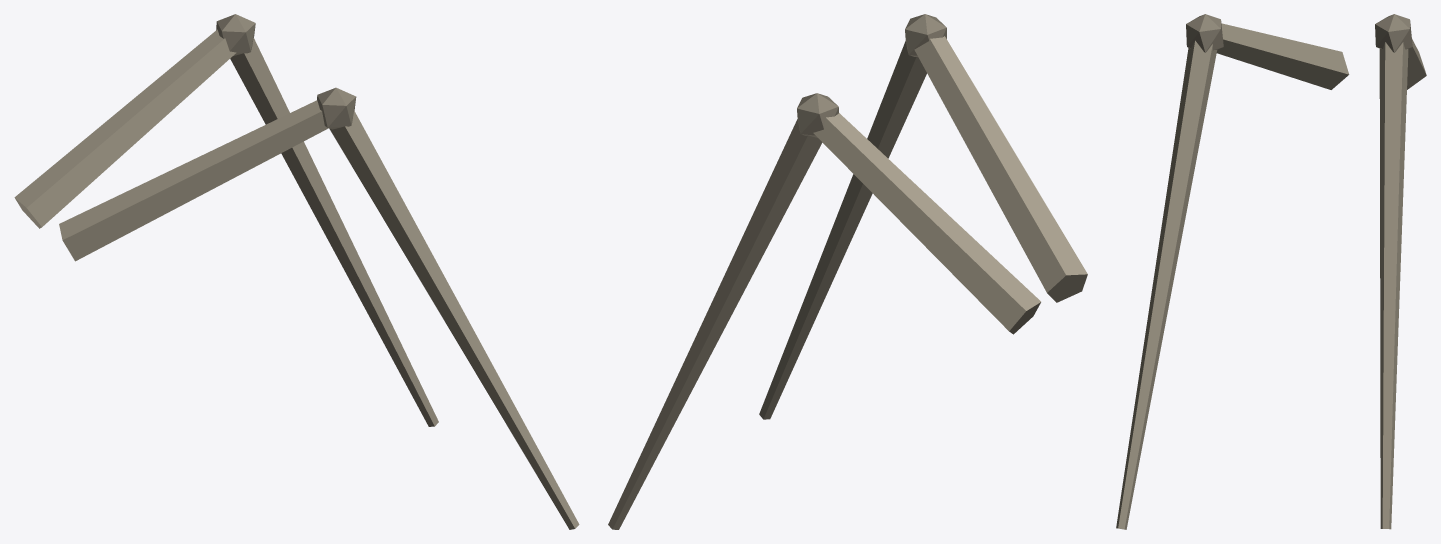
The model's file is spider_2_leg_fl.glb.
3 renders of one model, left to right at view 1: azimuth 30°, elevation 25°; view 2: azimuth 150°, elevation 25°; view 3: azimuth 270°, elevation 25°, orthographic. The views are drawn at different scales.
Visible parts, largest first — view 1: spider_2_leg_fl; view 2: spider_2_leg_fl; view 3: spider_2_leg_fl.
Boxes of the visible parts, x1,y1,x2,y2 form: spider_2_leg_fl: [14, 14, 579, 529]; spider_2_leg_fl: [608, 14, 1087, 529]; spider_2_leg_fl: [1116, 14, 1426, 529].
Bounding box in the file's own units: 0.6358 × 0.6754 × 0.444.
